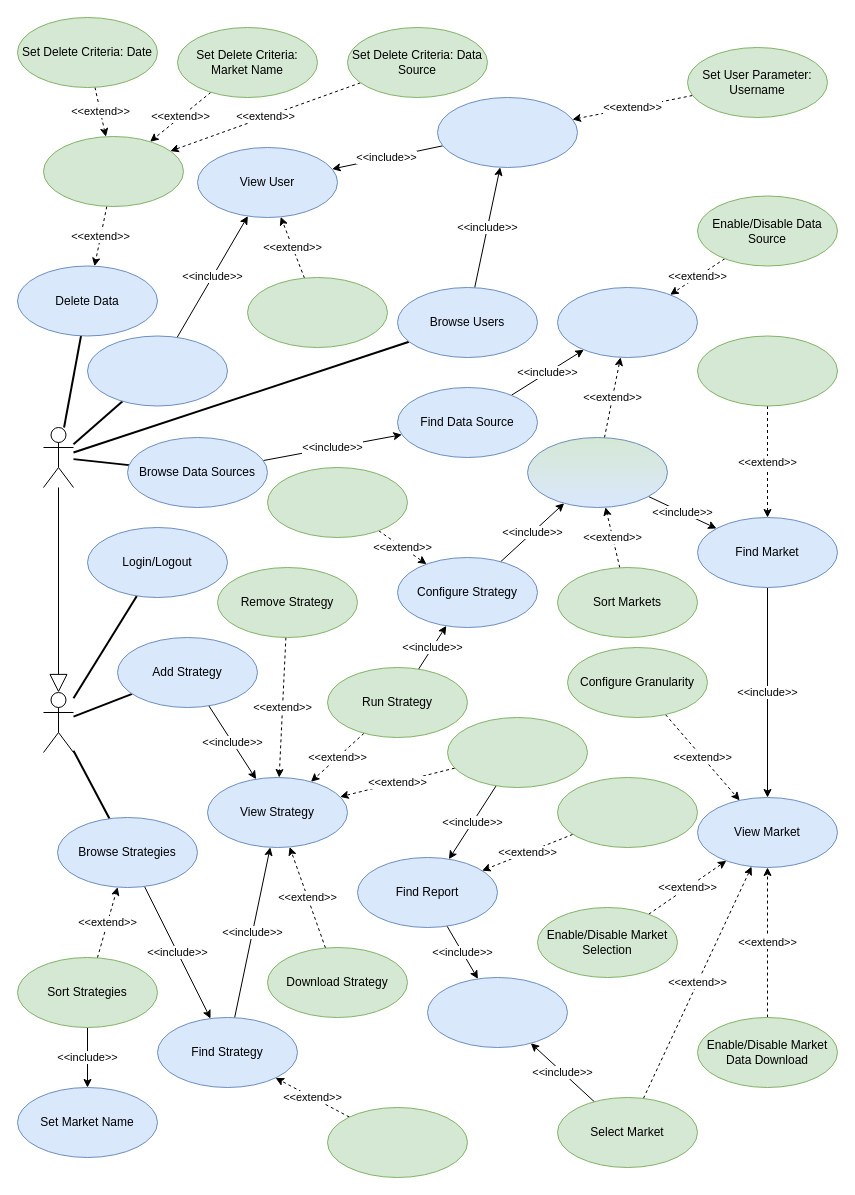
Some shapes in this 855 by 1195 pixel diagram are drawn without their labels. The centre of each missing label's shape, as x and y in pixels:
Add User: point 157,370
Administrator: point 58,457
Browse Markets: point 597,472
Browse Result Reports: point 517,752
Find User: point 507,132
Remove User: point 317,312
Set Delete Criteria: point 113,171
Set Market Parameter: Market Name: point 767,370
Set Report Parameter: Market Name: point 627,812
Set Strategy Parameter: Strategy Name: point 397,1142
Set Strategy Parameters: point 337,502
User: point 58,722
View Data Source: point 627,322
View Report: point 497,1012
